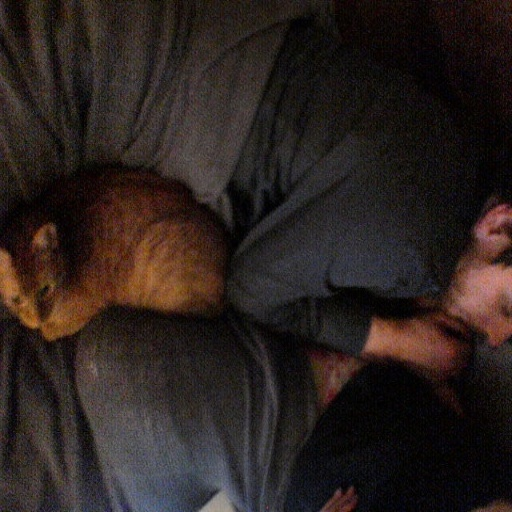hand: (392, 312, 473, 374), (320, 485, 360, 510)
